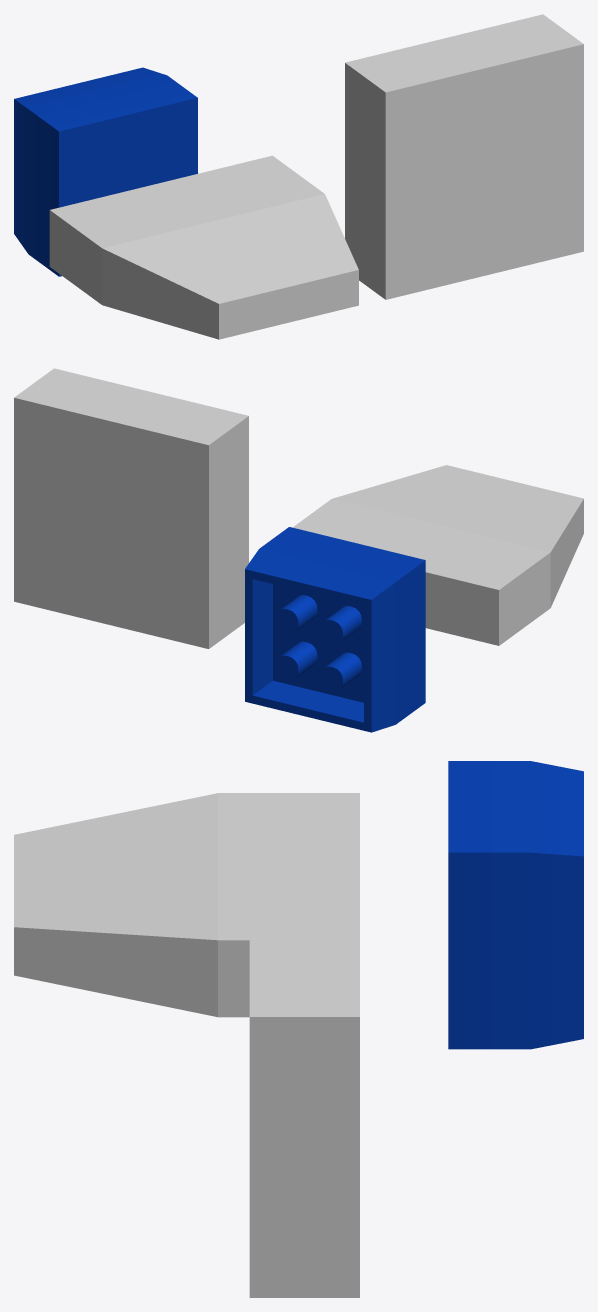
Rendered from Dashboard.gltf.
3 renders of one model, top to bottom at view 1: azimuth 30°, elevation 25°; view 2: azimuth 150°, elevation 25°; view 3: azimuth 270°, elevation 25°, orthographic. The views are drawn at different scales.
Parts seen in each view (by area): view 1: PushButton, ToggleButton, dataport; view 2: PushButton, dataport, ToggleButton; view 3: ToggleButton, PushButton, dataport.
Part boxes in pixels (x1,y1,x2,y2): PushButton: (345,14,583,299); ToggleButton: (49,155,358,339); dataport: (14,67,197,276); PushButton: (14,368,248,648); dataport: (245,527,425,732); ToggleButton: (293,465,583,645); ToggleButton: (14,793,359,1017); PushButton: (249,886,359,1297); dataport: (448,761,583,1049).
Bounding box in the file's own units: 0.1744 × 0.0701 × 0.1289.
